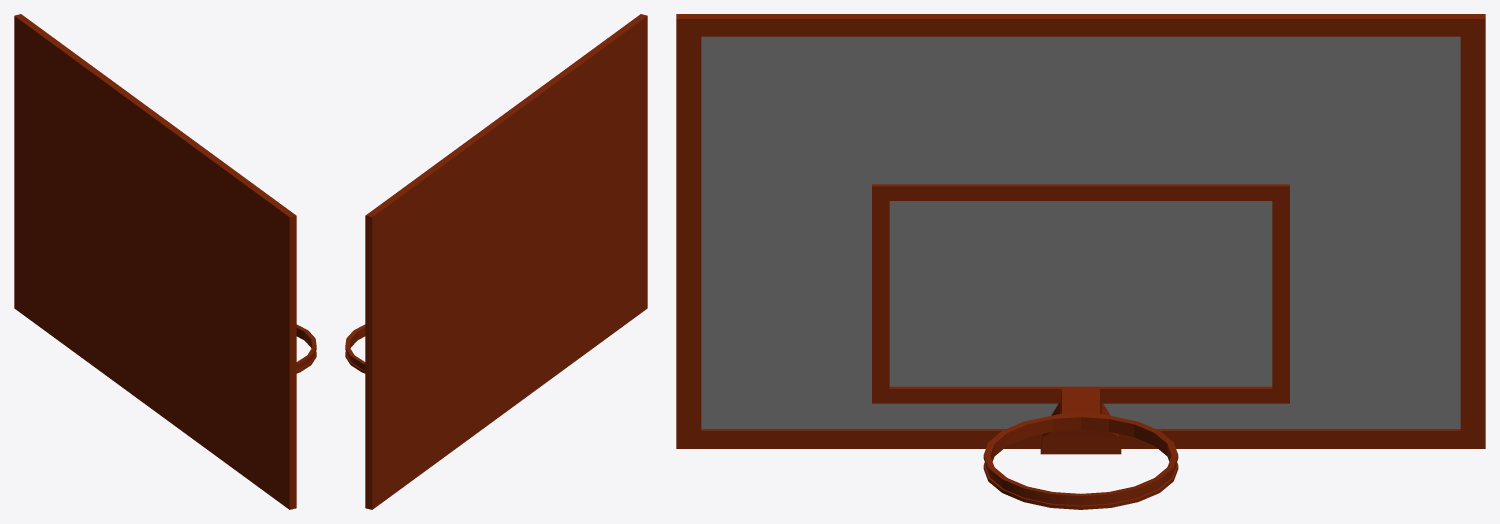
File: sm_basketballhoop.fbx
3 views of the same model, side by side, from view 1: azimuth 30°, elevation 25°; view 2: azimuth 150°, elevation 25°; view 3: azimuth 270°, elevation 25° (orthographic). The views are drawn at different scales.
Parts seen in each view (by area): view 1: basketballhoop_low; view 2: basketballhoop_low; view 3: basketballhoop_low (×2).
Boxes of the visible parts, x1=… form: basketballhoop_low: x1=14, y1=14, x2=316, y2=509; basketballhoop_low: x1=345, y1=14, x2=647, y2=509; basketballhoop_low (×2): x1=676, y1=14, x2=1485, y2=509.
Bounding box in the file's own units: 28.5 × 50.99 × 87.
